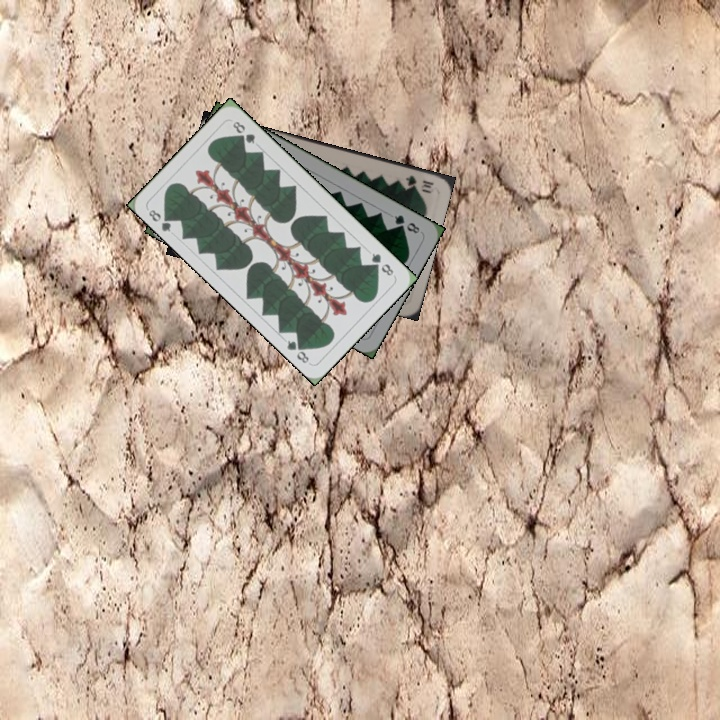G10: (402, 171, 436, 194)
G8: (144, 205, 176, 235), (367, 249, 396, 279), (390, 211, 422, 236)
